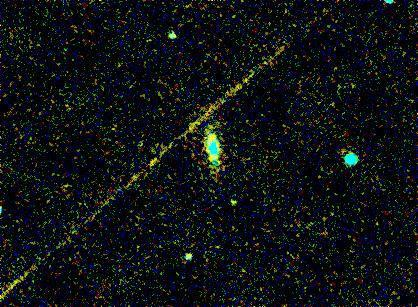star: (220, 188, 250, 218)
